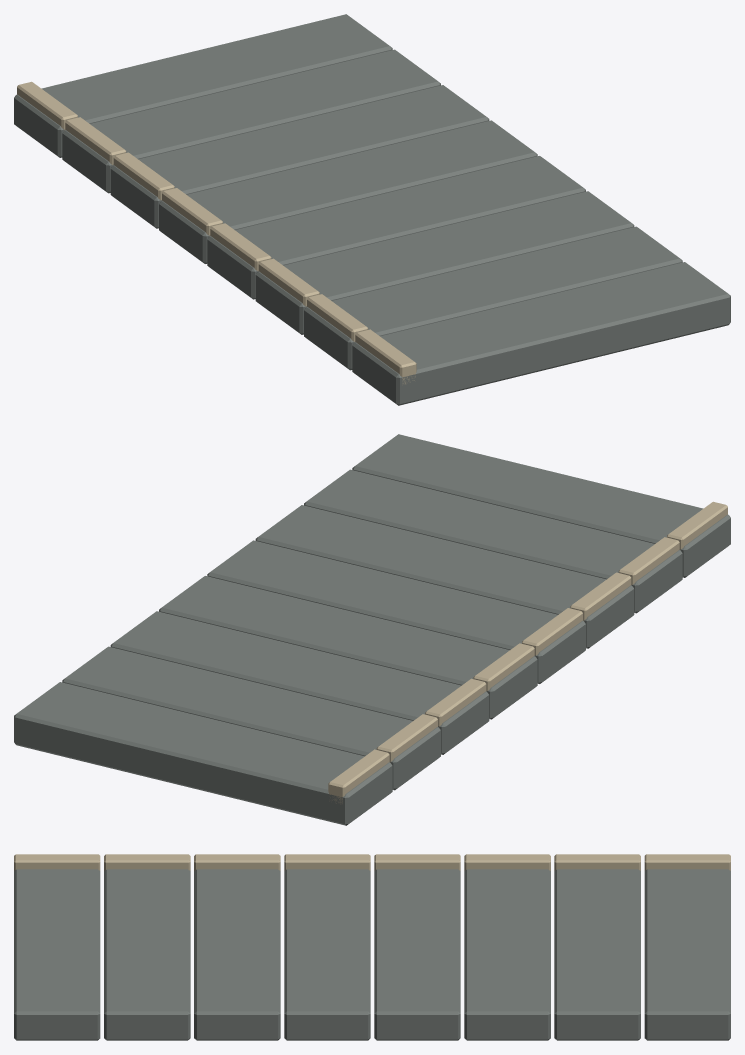
File: landscape-sidewalk.lod0.glb
The picture shows the model from 3 angles, top to bottom: view 1: azimuth 30°, elevation 25°; view 2: azimuth 150°, elevation 25°; view 3: azimuth 270°, elevation 25°; orthographic projection. The views are drawn at different scales.
Parts seen in each view (by area): view 1: landscape-sidewalk__body; view 2: landscape-sidewalk__body; view 3: landscape-sidewalk__body.
Boxes of the visible parts, <box> form: landscape-sidewalk__body: <box>14,14,730,405</box>; landscape-sidewalk__body: <box>14,434,730,825</box>; landscape-sidewalk__body: <box>14,854,730,1040</box>.
Bounding box in the file's own units: 2 × 0.23 × 3.98.
